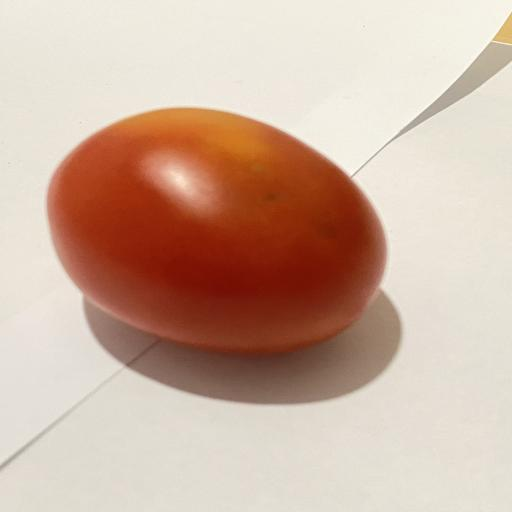ripe: (47, 108, 386, 353)
